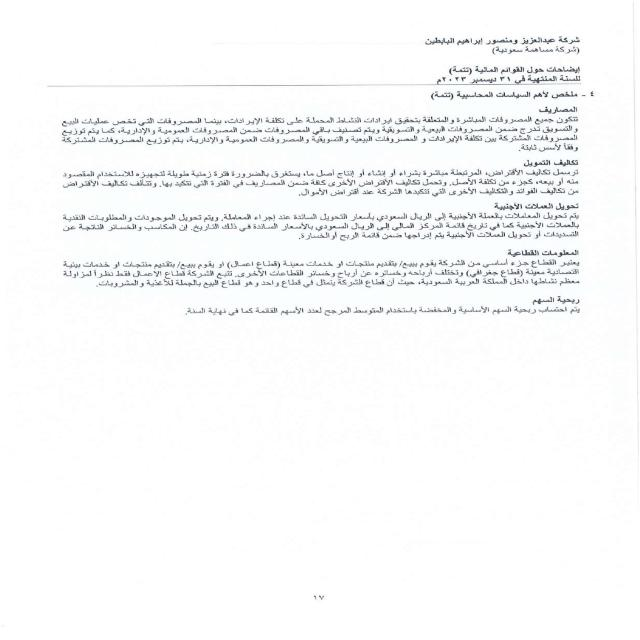notes: (430, 62, 600, 74)
text: (36, 89, 598, 350)
